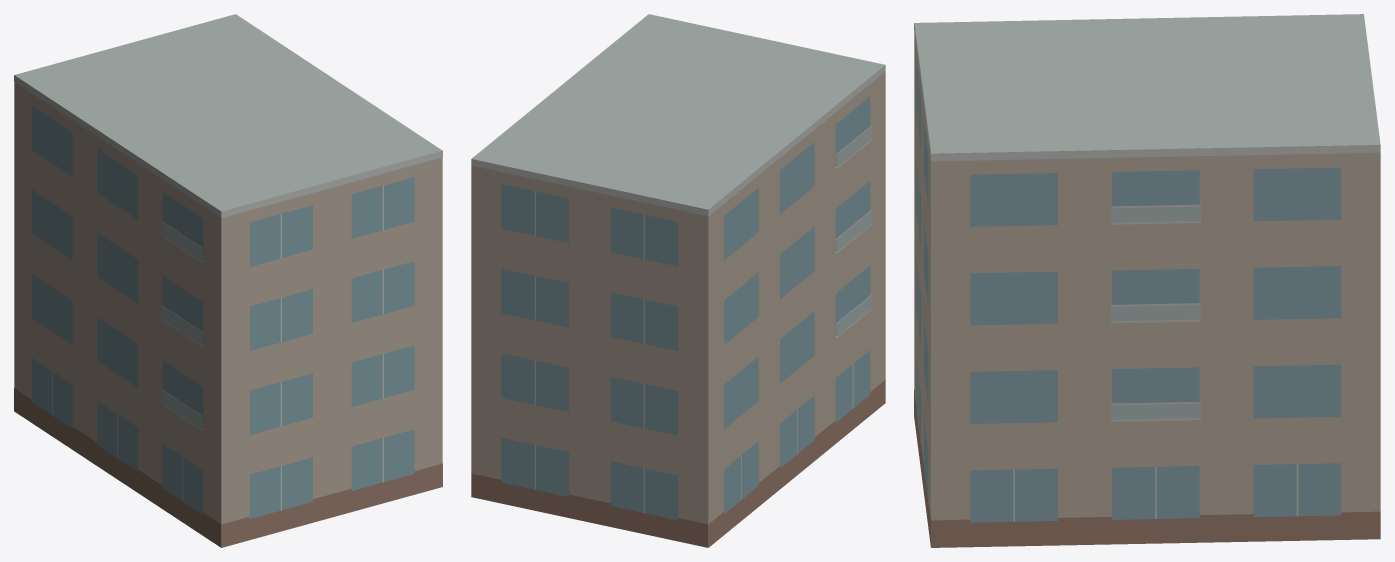
Rendered from survey-upis-32629258.glb.
3 renders of one model, left to right at view 1: azimuth 30°, elevation 25°; view 2: azimuth 150°, elevation 25°; view 3: azimuth 270°, elevation 25°, orthographic. The views are drawn at different scales.
Visible parts, largest first — view 1: survey-upis-32629258.tmp; view 2: survey-upis-32629258.tmp; view 3: survey-upis-32629258.tmp.
Boxes of the visible parts, x1,y1,x2,y2 form: survey-upis-32629258.tmp: (14,14,442,547); survey-upis-32629258.tmp: (471,14,885,547); survey-upis-32629258.tmp: (914,14,1380,547).
Bounding box in the file's own units: 9.42 × 12.4 × 13.3.
